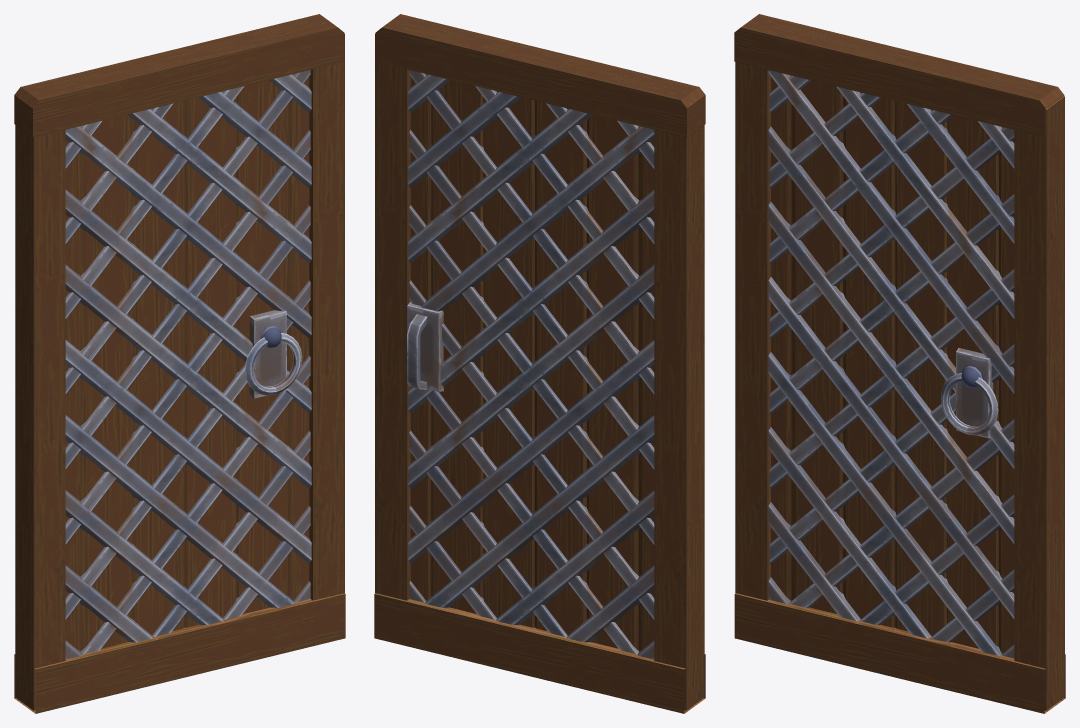
Rendered from door_4_flat.glb.
3 views of the same model, side by side, from view 1: azimuth 30°, elevation 25°; view 2: azimuth 150°, elevation 25°; view 3: azimuth 330°, elevation 25° (orthographic).
Visible parts, largest first — view 1: Door_4_Flat; view 2: Door_4_Flat; view 3: Door_4_Flat.
Part boxes in pixels (box(x1,y1,x2,y2)): Door_4_Flat: box(14, 14, 345, 713); Door_4_Flat: box(374, 14, 705, 713); Door_4_Flat: box(734, 14, 1065, 713).
Size of the model in its own units: 1.12 by 2.09 by 0.2093.
2 materials, 2 textured.
